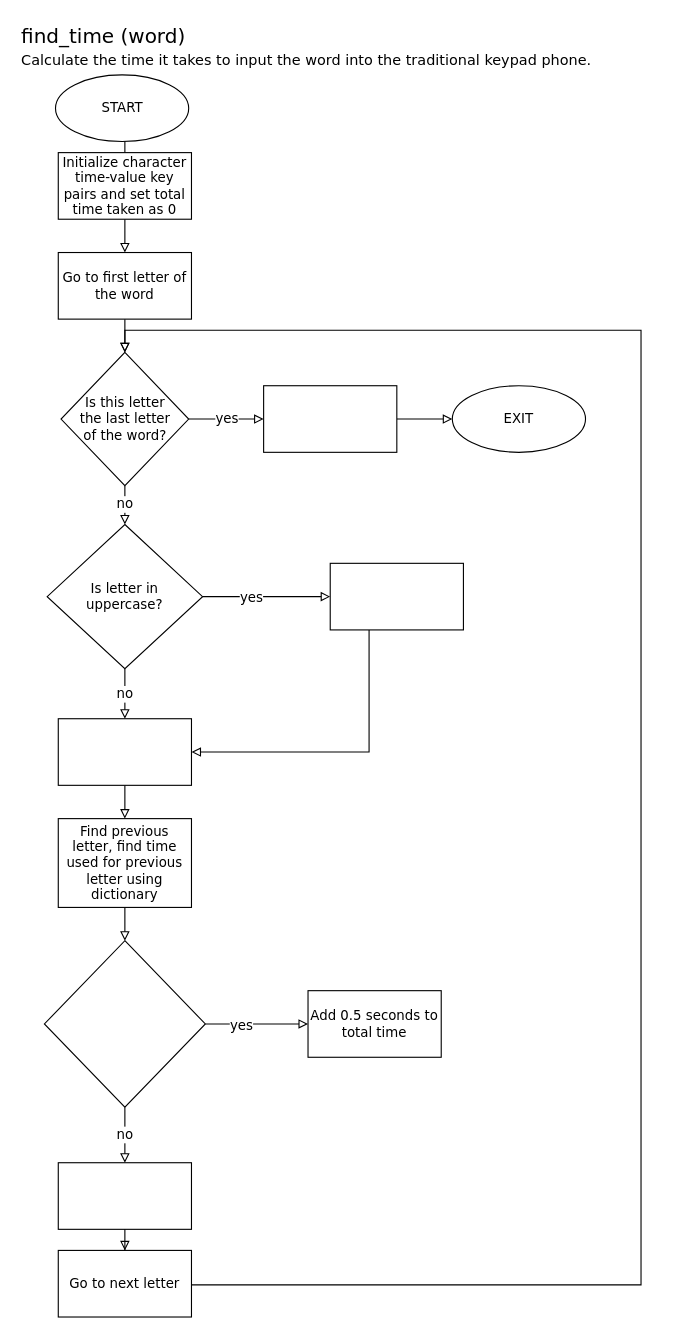
Image size: 693x1336. Some labels were removed from this diagram. Each missing label, with the box of its shape:
Add 0.25 seconds to total time: (57, 1162, 191, 1229)
Add 2s to total time: (329, 562, 463, 630)
Check if time for previous letter = time for current letter: (43, 940, 205, 1107)
Find time for letter using dictionary, add to total time: (57, 718, 191, 785)
Return total time taken and word: (263, 385, 397, 452)
